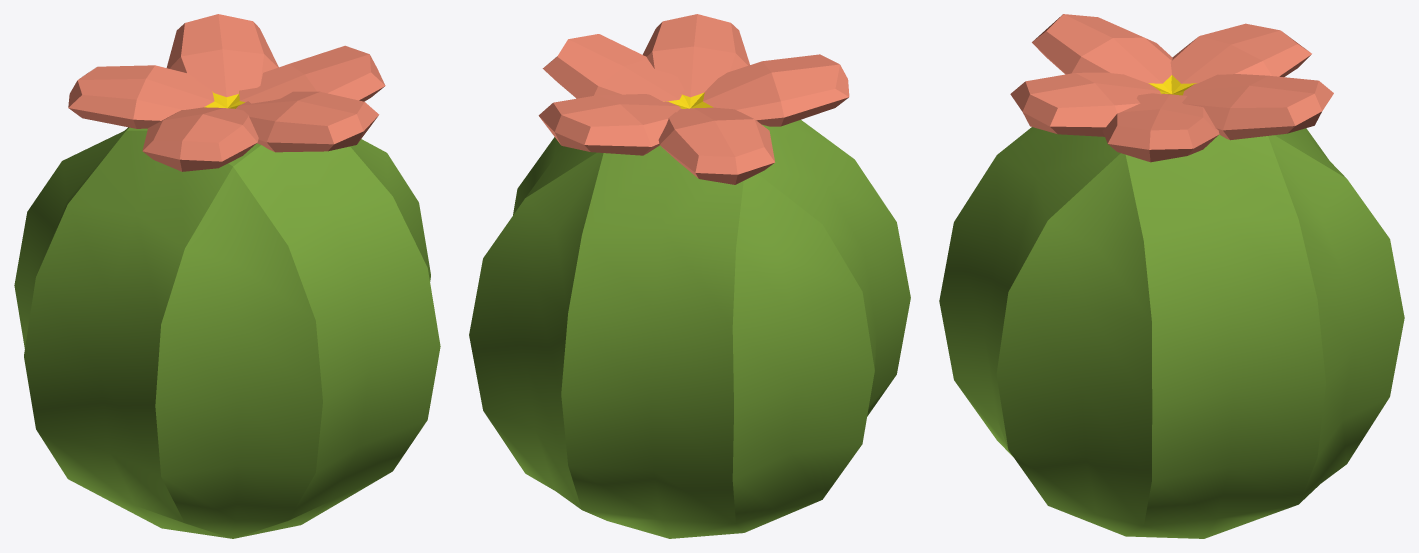
Rendered from Cactus_2.fbx.
3 views of the same model, side by side, from view 1: azimuth 30°, elevation 25°; view 2: azimuth 150°, elevation 25°; view 3: azimuth 270°, elevation 25° (orthographic). The views are drawn at different scales.
Parts seen in each view (by area): view 1: Cube.001; view 2: Cube.001; view 3: Cube.001.
Boxes of the visible parts, x1=… form: Cube.001: x1=14, y1=14, x2=440, y2=538; Cube.001: x1=469, y1=14, x2=910, y2=538; Cube.001: x1=939, y1=14, x2=1404, y2=538.
Size of the model in its own units: 127 by 131 by 127.
